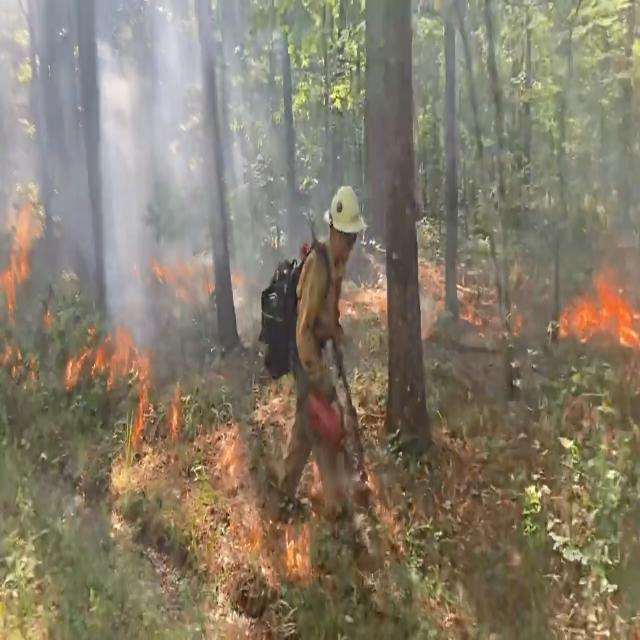Fire: (551, 256, 638, 350)
